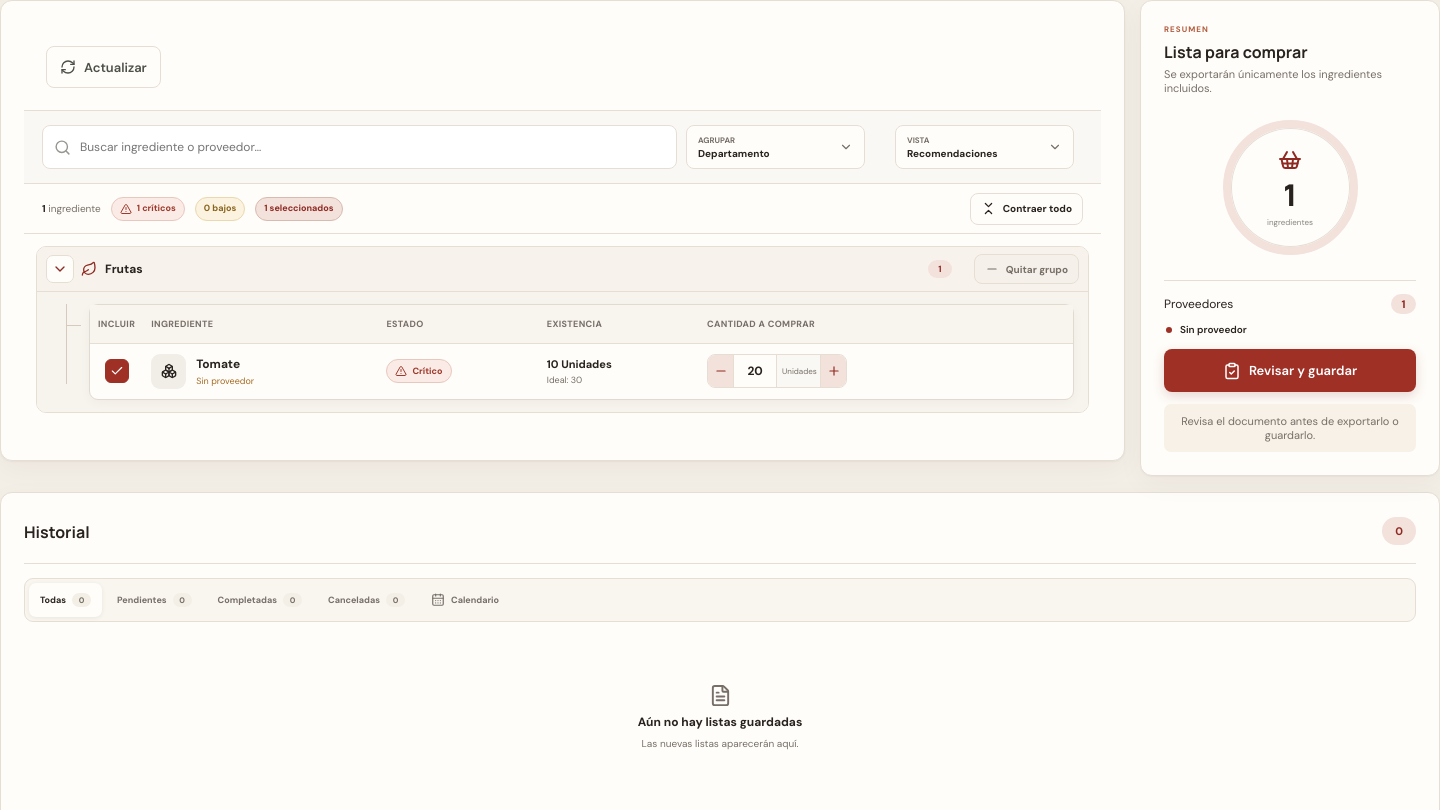
Test: ShoppingPage purchase receipt review › switches from recommendations to all ingredients for a list created from scratch
Expected: the button with aria-label "Frutas, 1 ingrediente" is shown, [37,247,966,291]
Click the button "Vista Recomendaciones" at (984, 147), box [895,125,1074,169]
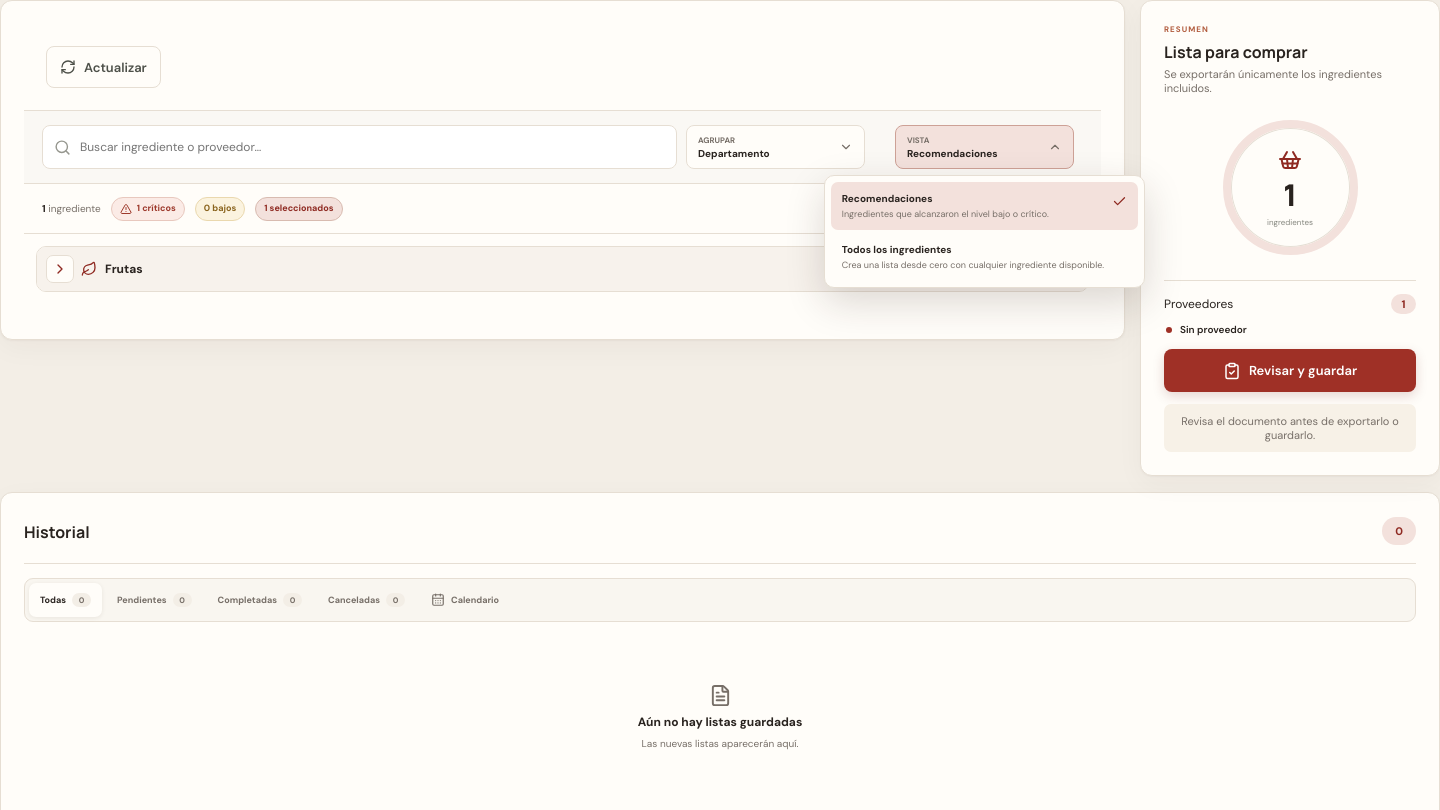
Click the button "Todos los ingredientes" at (984, 257), box [831,233,1138,281]
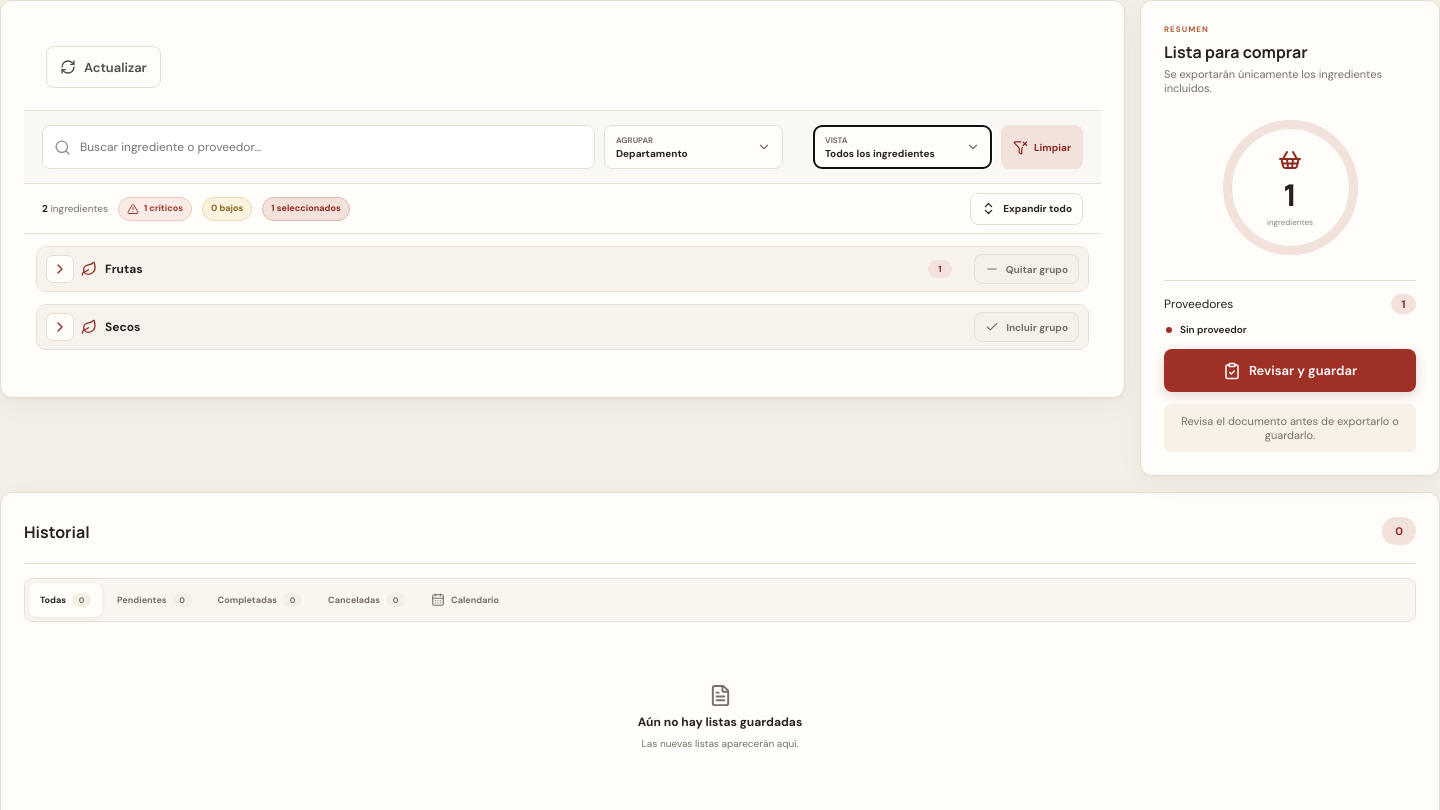
Result: the button with aria-label "Secos, 1 ingrediente" is shown at [37,305,966,349]
Click the button with aria-label "Expandir todos los grupos" at (1027, 208), box [970,192,1083,224]
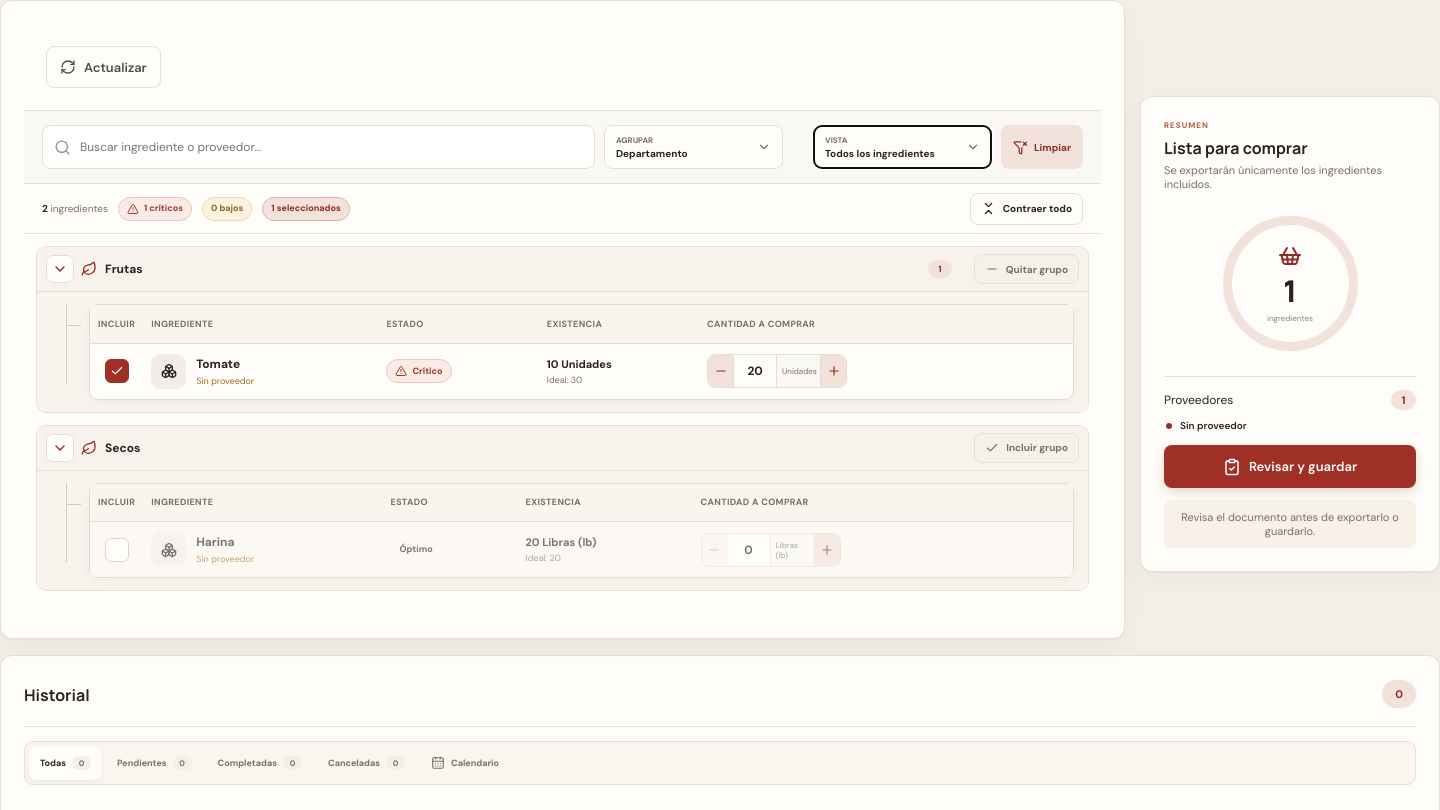
Result: the text "Harina" is shown at [196,534,234,550]
Result: the button named "Incluir Harina" is shown at [105,538,129,562]
Result: the number field named "Cantidad a comprar de Harina" holds "0" at [728,534,770,566]
